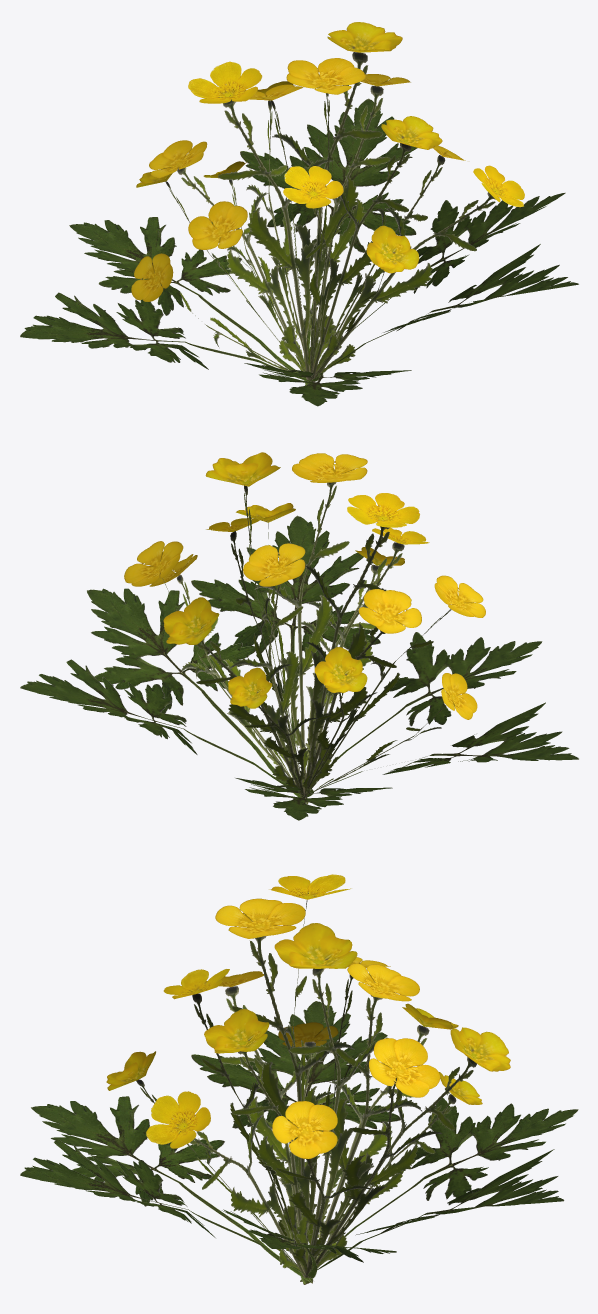
Rendered from ranunculus1_bush.FBX.
3 renders of one model, top to bottom at view 1: azimuth 30°, elevation 25°; view 2: azimuth 150°, elevation 25°; view 3: azimuth 270°, elevation 25°, orthographic. The views are drawn at different scales.
Parts seen in each view (by area): view 1: ranunculus1; view 2: ranunculus1; view 3: ranunculus1.
Part boxes in pixels (<box>): ranunculus1: <box>20,22,578,406</box>; ranunculus1: <box>20,452,578,820</box>; ranunculus1: <box>20,874,578,1284</box>.
Bounding box in the file's own units: 56.63 × 35.45 × 47.53.
